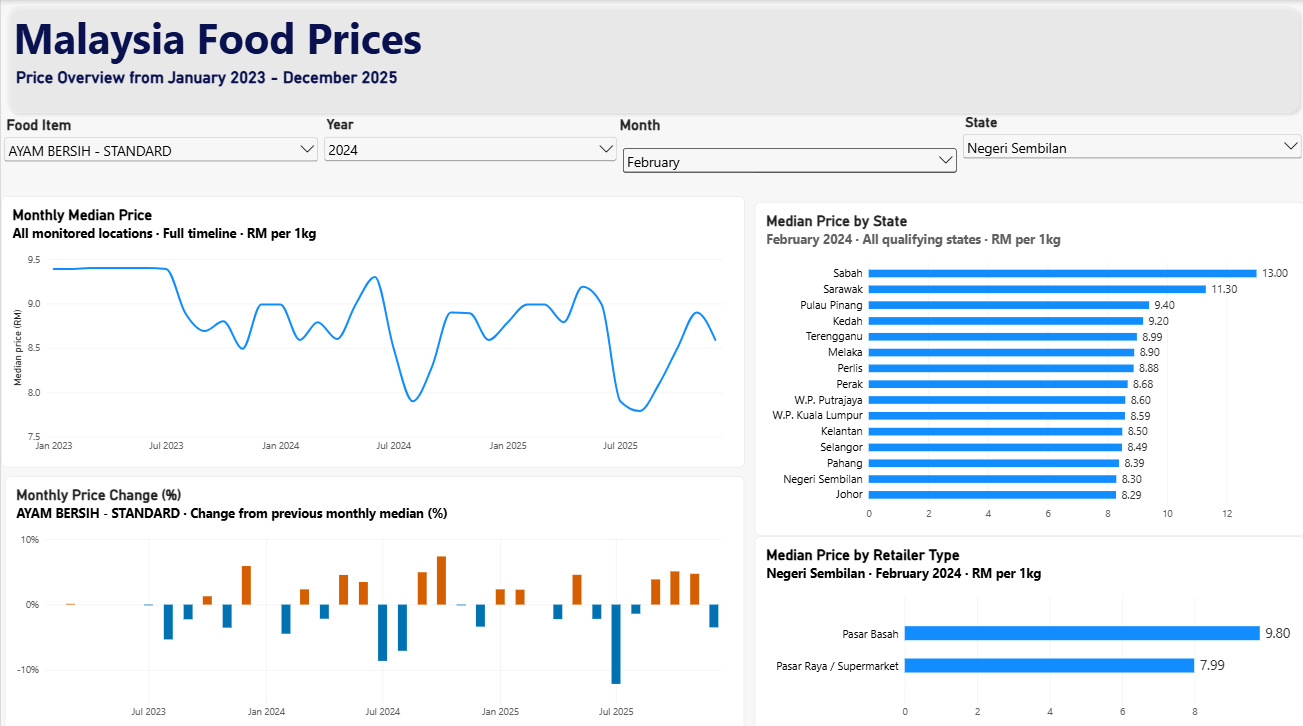

What the dashboard file says about the page in this screenshot:
{"tool":"powerbi","page":{"name":"Price Overview","canvas":[1920,1080],"ordinal":0},"visuals":[{"type":"slicer","fields":{"Values":["DimItem.item"]},"box":[0,170.8,471.4,100.9],"z":0},{"type":"lineChart","title":"Monthly Median Price ","fields":{"Category":["MonthlyTrends.month"],"Y":["Avg(MonthlyTrends.median_price)"]},"box":[0,288.2,1095,399.3],"z":1000},{"type":"clusteredBarChart","title":"Median Price by State","fields":{"Category":["StatePrices.state"],"Y":["Avg(StatePrices.median_price)"]},"box":[1109.8,298.2,810,490],"z":2000},{"type":"clusteredBarChart","title":"Median Price by Retailer Type","fields":{"Category":["RetailerPrices.retailer_type"],"Y":["Avg(RetailerPrices.median_price)"]},"box":[1109.8,789.6,809.8,290.8],"z":3000},{"type":"slicer","fields":{"Values":["DimState.state"]},"box":[1411.6,166.7,508.4,105],"z":4000},{"type":"slicer","title":"Month","fields":{"Values":["DimMonth.MonthName"]},"box":[911,171.2,500.6,101.2],"z":5000},{"type":"slicer","fields":{"Values":["DimYear.Year"]},"box":[471.4,170.8,440.5,100.9],"z":6000},{"type":"clusteredColumnChart","title":"Monthly Price Change (%)","fields":{"Category":["MonthlyTrends.month"],"Y":["MonthlyTrends.Monthly Price Change %"]},"box":[6.2,701.9,1088.9,378.7],"z":7000},{"type":"shape","box":[0,0,1920.4,175],"z":10000},{"type":"textbox","box":[6.2,88.5,1772.2,39.1],"z":11000},{"type":"textbox","box":[22.6,98.8,1897.8,76.2],"z":12000}]}

Visuals, with their boxes in screenshot pixels (x1, y1, x2, y2), scaled from the page's 1920x1080 canvas onto the 1303x726 screenshot:
slicer - DimItem.item: select_region(0, 115, 320, 183)
"Monthly Median Price " lineChart: select_region(0, 194, 743, 462)
"Median Price by State" clusteredBarChart: select_region(753, 200, 1302, 530)
"Median Price by Retailer Type" clusteredBarChart: select_region(753, 531, 1302, 725)
slicer - DimState.state: select_region(958, 112, 1302, 183)
"Month" slicer: select_region(618, 115, 958, 183)
slicer - DimYear.Year: select_region(320, 115, 619, 183)
"Monthly Price Change (%)" clusteredColumnChart: select_region(4, 472, 743, 725)
shape: select_region(0, 0, 1302, 118)
textbox: select_region(4, 59, 1207, 86)
textbox: select_region(15, 66, 1302, 118)
